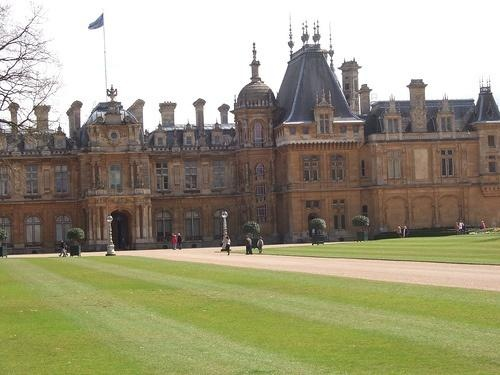pottedplant: (351, 214, 372, 245), (65, 228, 86, 258), (309, 220, 330, 246), (244, 222, 262, 250)
